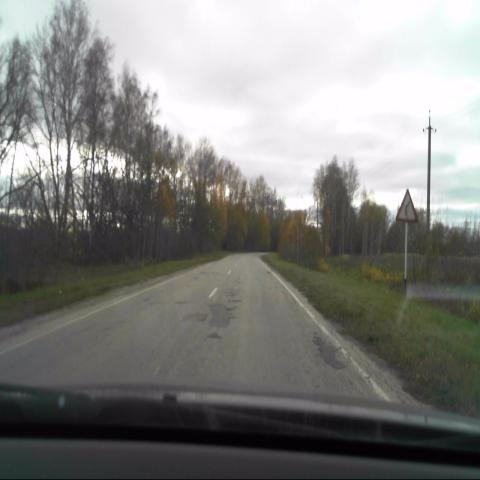1_11: (394, 187, 418, 224)
